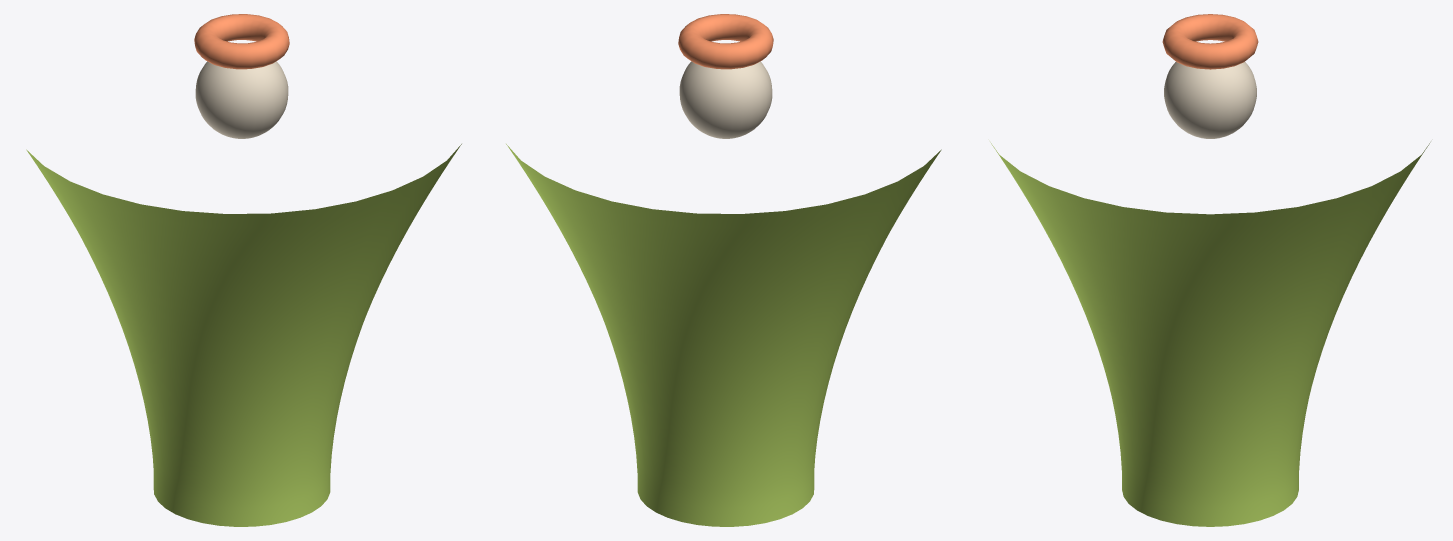
File: bell.glb
3 views of the same model, side by side, from view 1: azimuth 30°, elevation 25°; view 2: azimuth 150°, elevation 25°; view 3: azimuth 270°, elevation 25° (orthographic).
Size of the model in its own units: 1.18 by 1.35 by 1.18.
